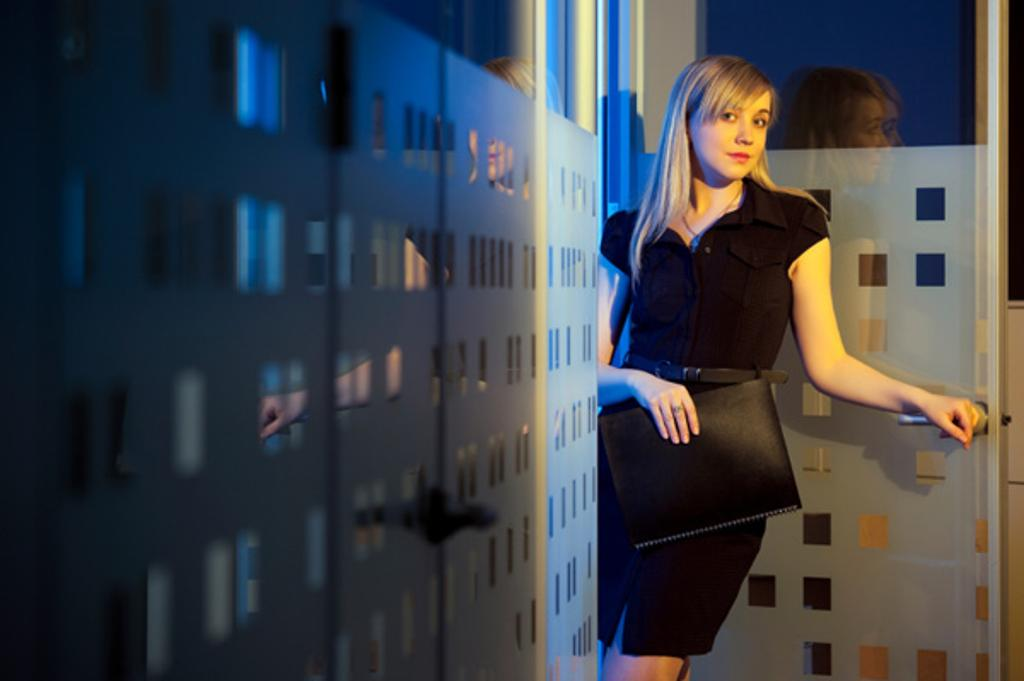face: (690, 74, 772, 180)
